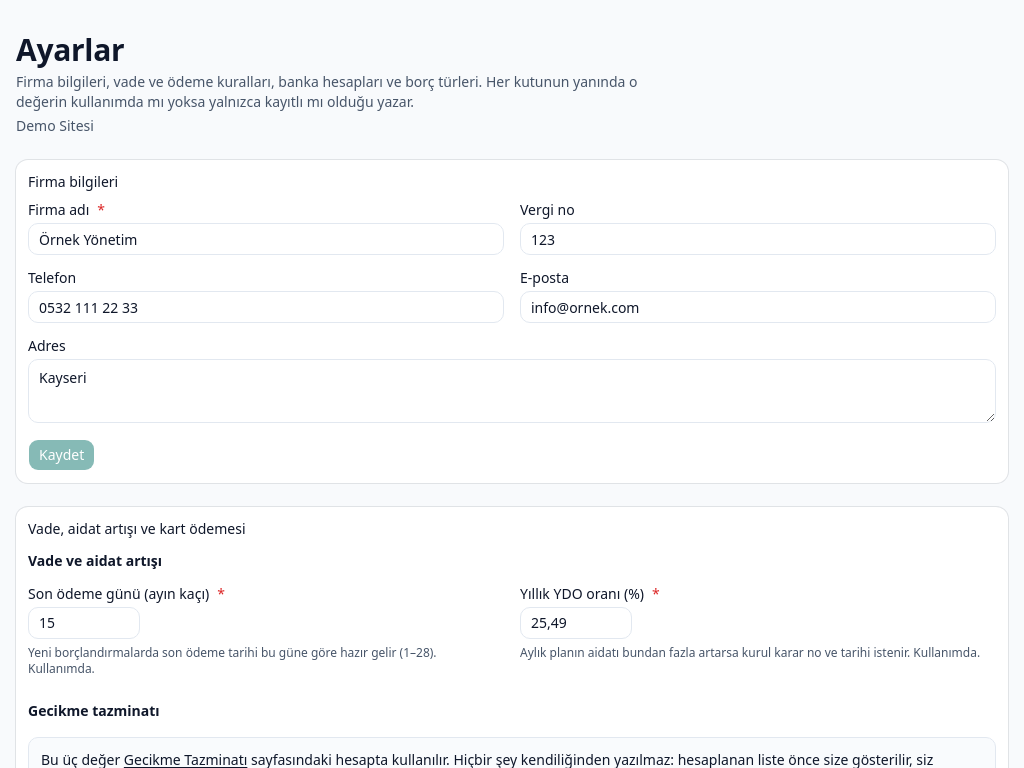
it: Ayarlar › refuses a wrong e-mail before anything is sent
This screenshot has width=1024, height=768.
Step 1. Replace the text in the field labelled "E-posta" with "abc" → (758, 307), box [520, 291, 996, 323]
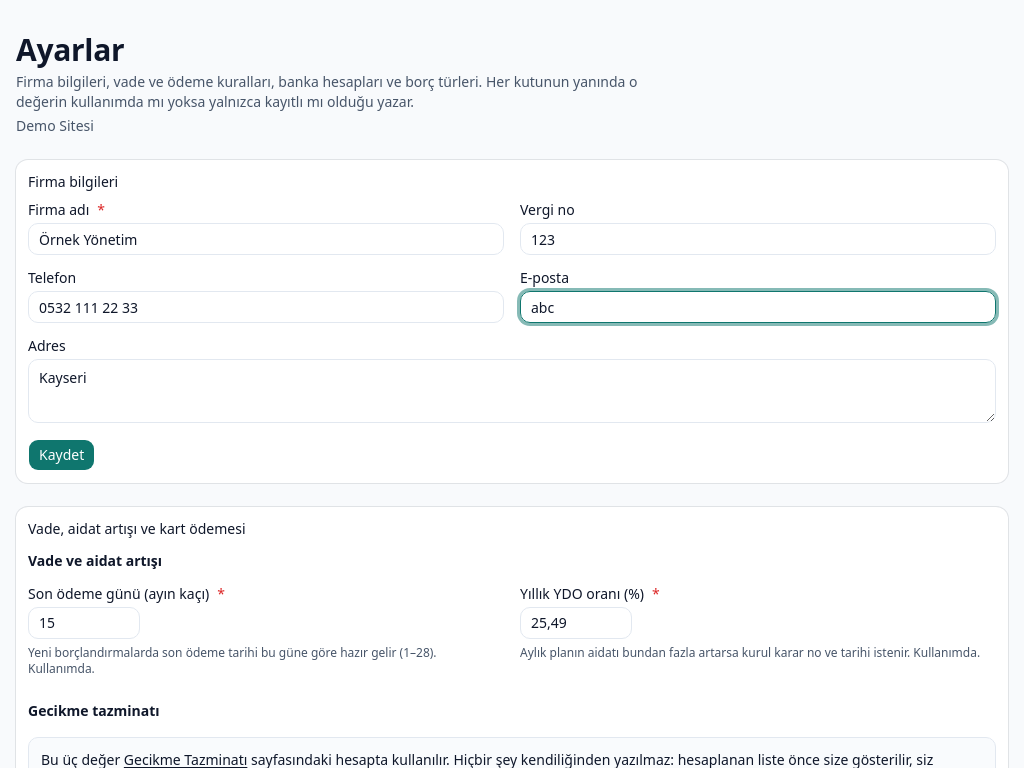
Step 2. Click the button "Kaydet" → (62, 455), box [28, 439, 95, 471]
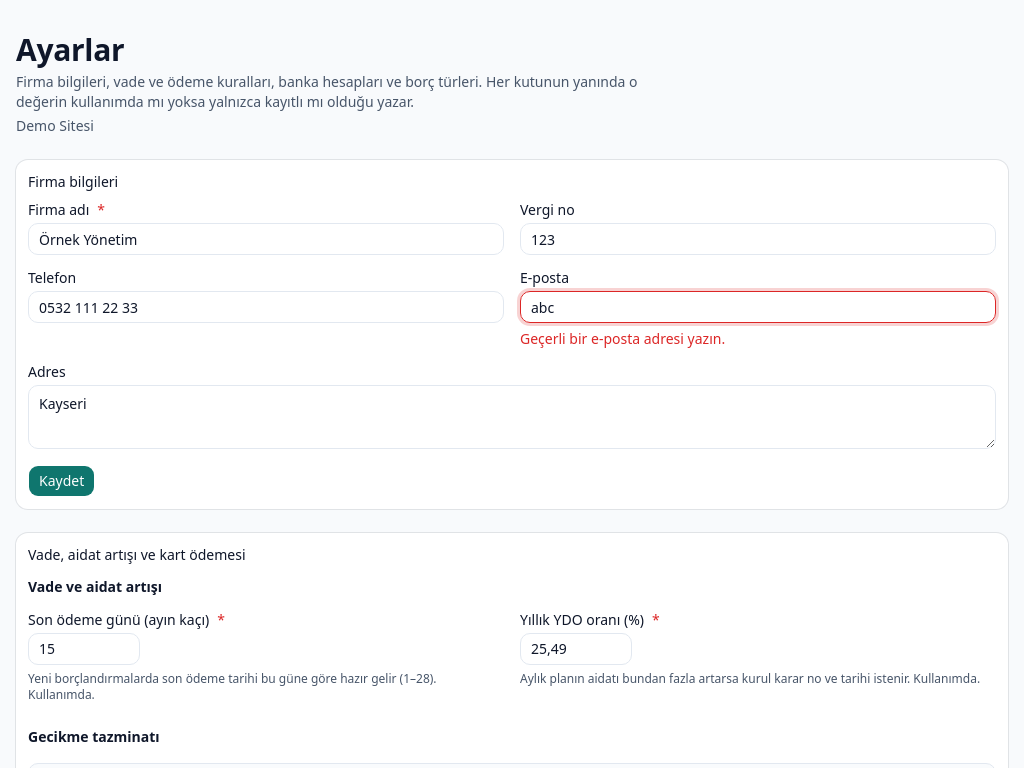
Expected: the text "Geçerli bir e-posta adresi yazın." is shown, [520, 329, 725, 348]
